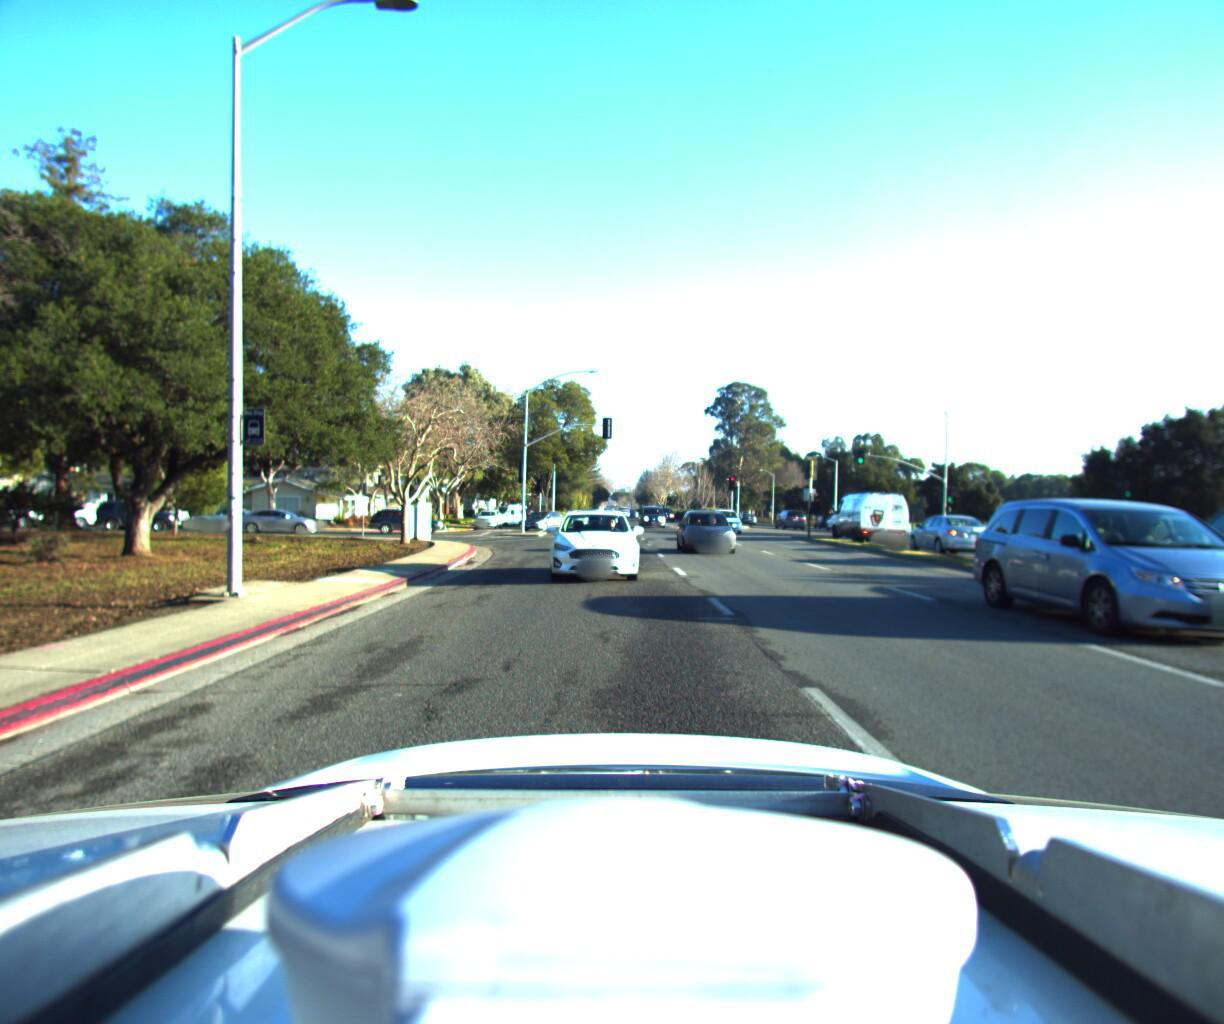car: (1011, 488, 1224, 678), (963, 497, 1117, 571), (1149, 492, 1224, 622), (541, 505, 639, 584), (898, 506, 998, 555), (80, 496, 183, 530), (678, 504, 746, 553), (231, 503, 322, 530), (19, 499, 107, 526), (366, 502, 446, 531), (185, 501, 269, 527), (0, 492, 55, 526), (503, 499, 560, 523), (711, 500, 748, 527), (471, 501, 503, 524), (772, 502, 806, 522), (640, 499, 669, 522)
other_vehicle: (823, 483, 908, 540)
truck: (483, 501, 526, 521)
